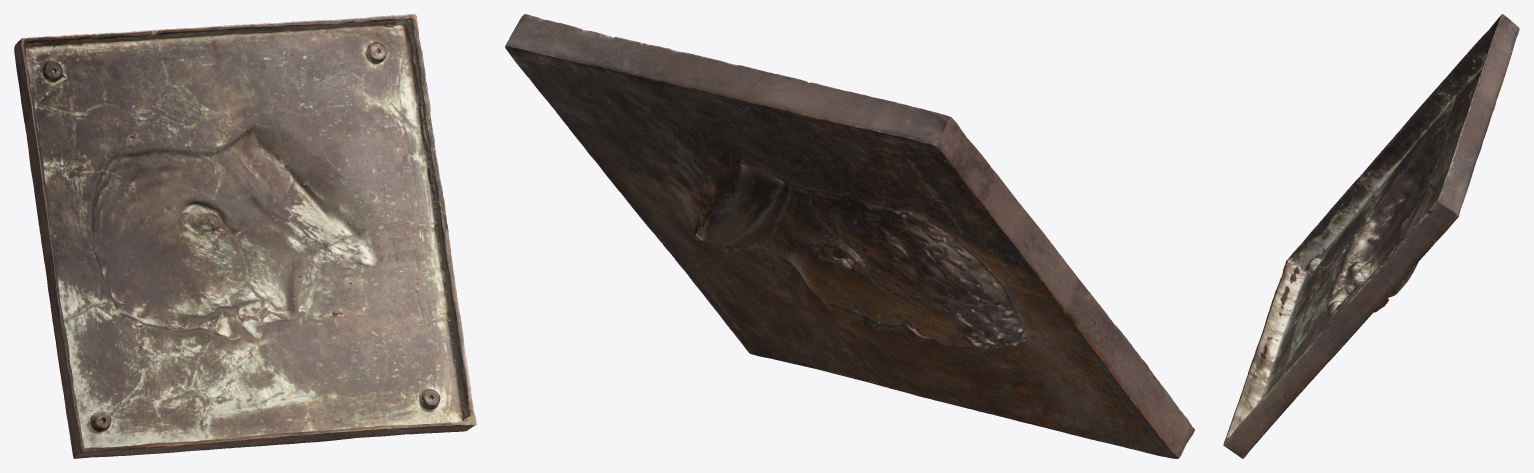
File: preview.glb
The picture shows the model from 3 angles, left to right: view 1: azimuth 30°, elevation 25°; view 2: azimuth 150°, elevation 25°; view 3: azimuth 270°, elevation 25°; orthographic projection. The views are drawn at different scales.
Bounding box in the file's own units: 606 × 492 × 416.
Materials: 1 (1 with a texture image).
